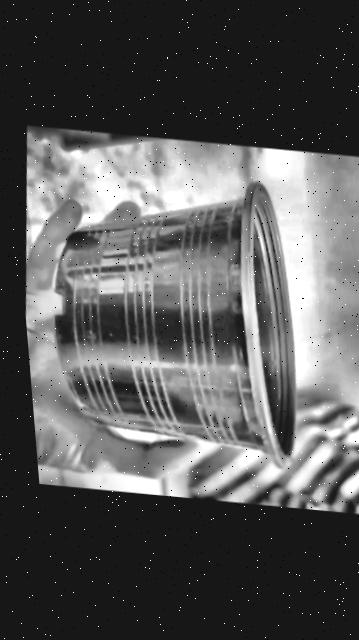pot: (53, 183, 293, 466)
